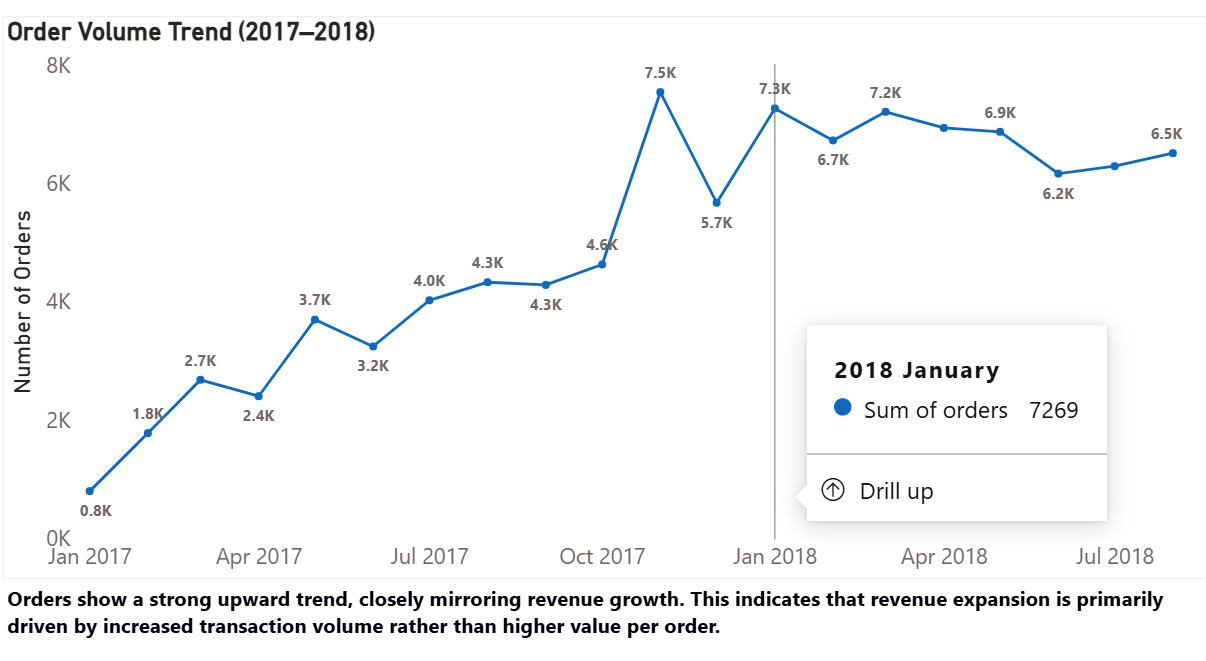

This screenshot's page, from the dashboard's own definition file:
{"tool":"powerbi","page":{"name":"Monthly Orders Trend","canvas":[1280,720],"ordinal":1},"visuals":[{"type":"lineChart","title":"Order Volume Trend (2017–2018)","fields":{"Y":["Sum(olist_order_trend.orders)"],"Category":["olist_order_trend.month.Variation.Date Hierarchy.Year","olist_order_trend.month.Variation.Date Hierarchy.Month"]},"box":[10,32,1269.8,589.9],"z":0},{"type":"textbox","box":[10,621.9,1269.8,78],"z":1000}]}

Visuals, with their boxes in screenshot pixels (x1, y1, x2, y2), scaled from the page's 1280x720 canvas onto the 1206x661 screenshot:
"Order Volume Trend (2017–2018)" lineChart: {"left": 9, "top": 29, "right": 1205, "bottom": 571}
textbox: {"left": 9, "top": 571, "right": 1205, "bottom": 643}
